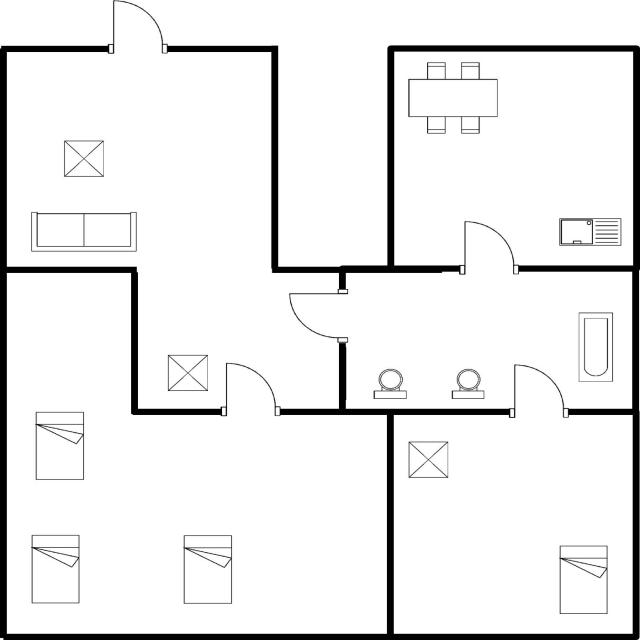bed: (29, 408, 90, 486), (178, 529, 236, 610), (26, 528, 84, 608), (553, 538, 611, 618)
coffee_table: (55, 134, 109, 182), (164, 349, 216, 397), (402, 438, 453, 483)
dining_table: (401, 58, 501, 139)
large_sink: (365, 364, 415, 404), (444, 362, 490, 402)
large_sofa: (23, 205, 140, 257)
sink: (552, 215, 624, 253)
tub: (570, 305, 618, 387)
